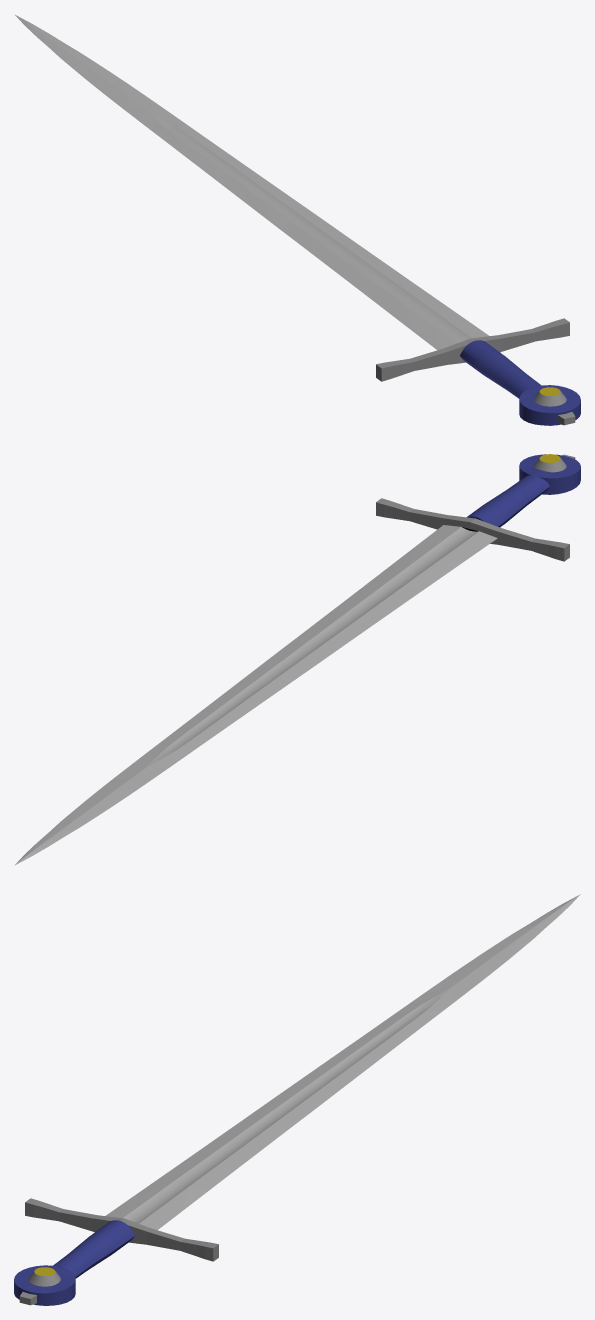
Rendered from Sword.fbx.
3 views of the same model, one above another, from view 1: azimuth 30°, elevation 25°; view 2: azimuth 150°, elevation 25°; view 3: azimuth 330°, elevation 25° (orthographic).
Visible parts, largest first — view 1: Squire_sword1; view 2: Squire_sword1; view 3: Squire_sword1.
Part boxes in pixels (x1=…): Squire_sword1: x1=14, y1=14, x2=580, y2=425; Squire_sword1: x1=14, y1=454, x2=580, y2=865; Squire_sword1: x1=14, y1=894, x2=580, y2=1305.
Bounding box in the file's own units: 7.62 × 1.15 × 38.94.
